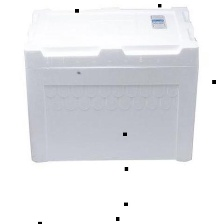foam_box: (16, 0, 206, 168)
